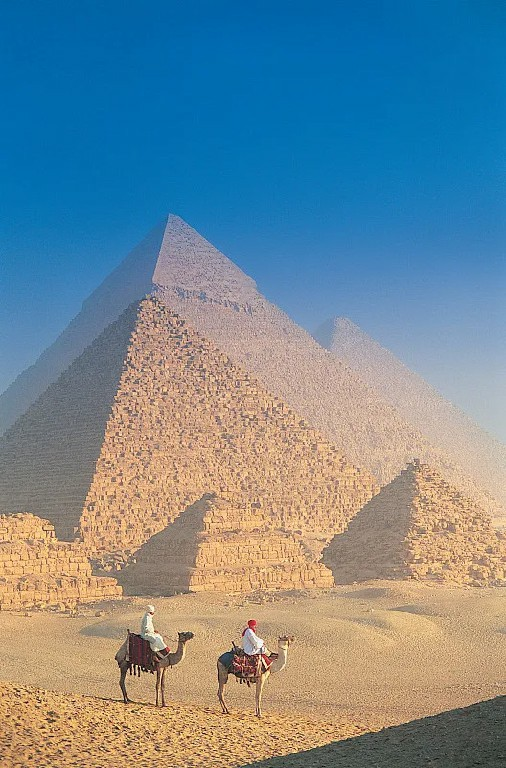Pyramid: (1, 212, 506, 520), (3, 296, 381, 562), (313, 314, 506, 517), (319, 459, 506, 579), (121, 492, 334, 591), (2, 512, 129, 610)
